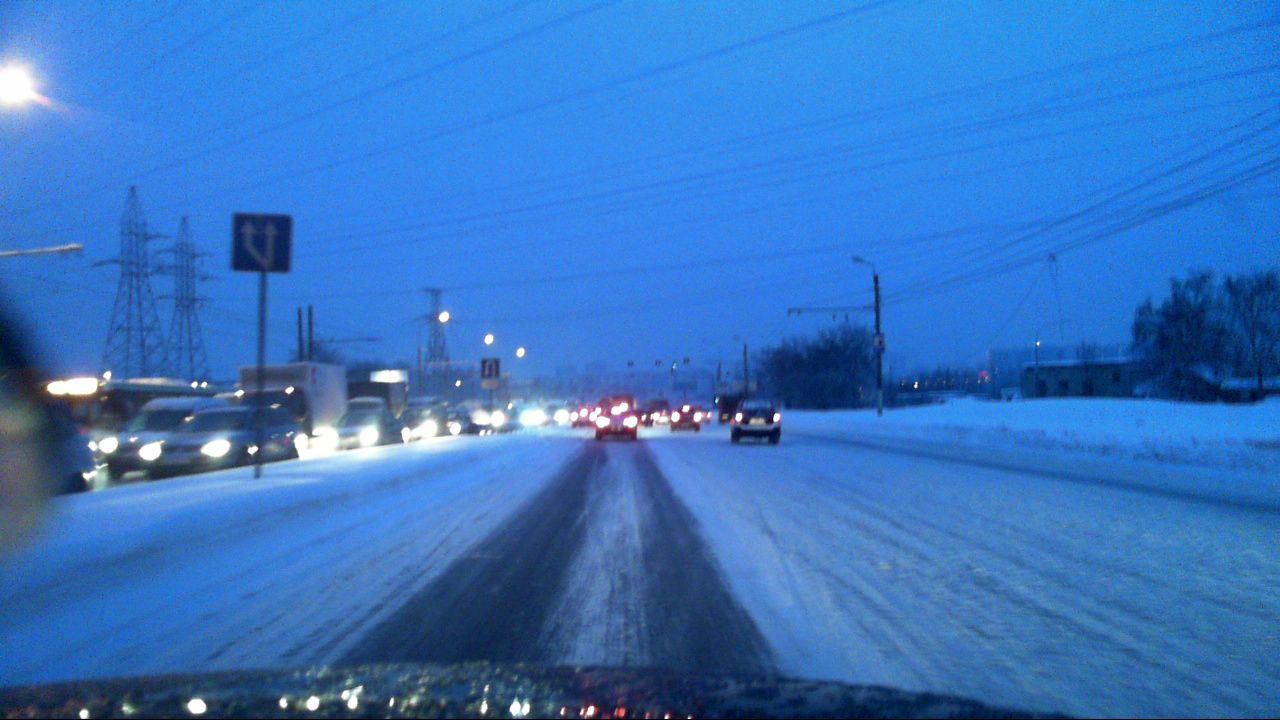U-turn: (482, 359, 498, 377)
